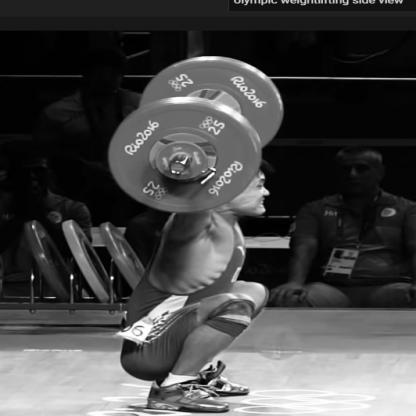Barbell: (106, 94, 268, 216)
